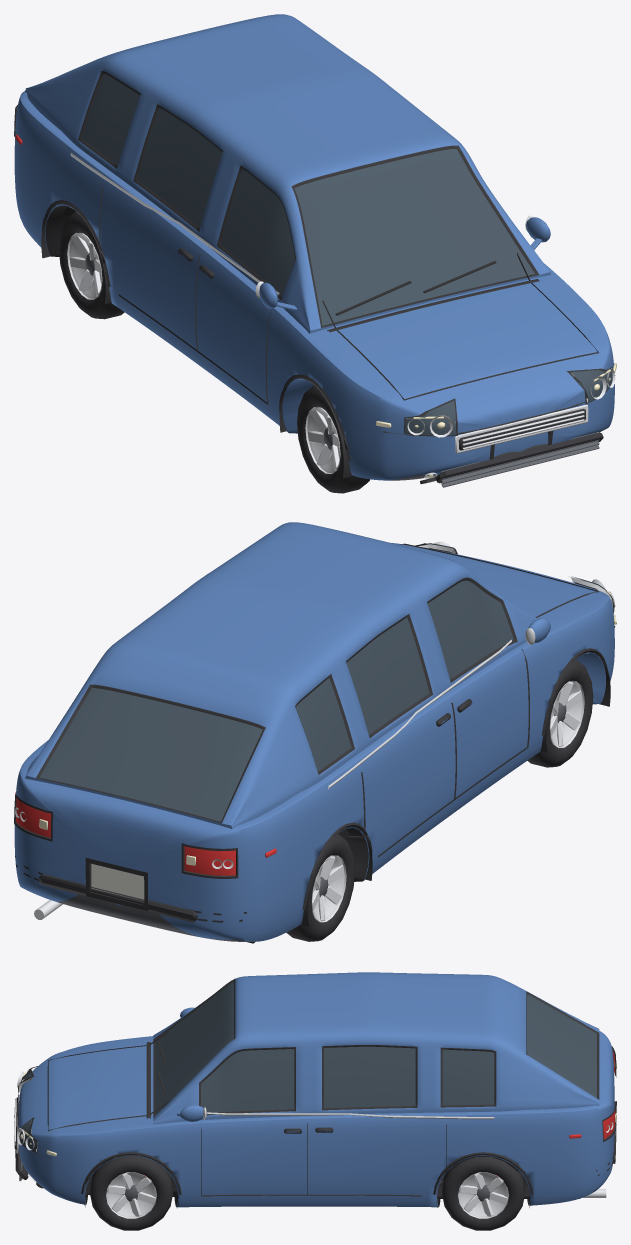
File: CarV3_Minivan.fbx
3 renders of one model, top to bottom at view 1: azimuth 30°, elevation 25°; view 2: azimuth 150°, elevation 25°; view 3: azimuth 270°, elevation 25°, orthographic. The views are drawn at different scales.
Parts seen in each view (by area): view 1: CarV3_Minivan; view 2: CarV3_Minivan; view 3: CarV3_Minivan.
Part boxes in pixels (<box>): CarV3_Minivan: <box>14,14,616,493</box>; CarV3_Minivan: <box>14,522,616,943</box>; CarV3_Minivan: <box>14,972,616,1230</box>.
Size of the model in its own units: 2 by 1.73 by 5.
